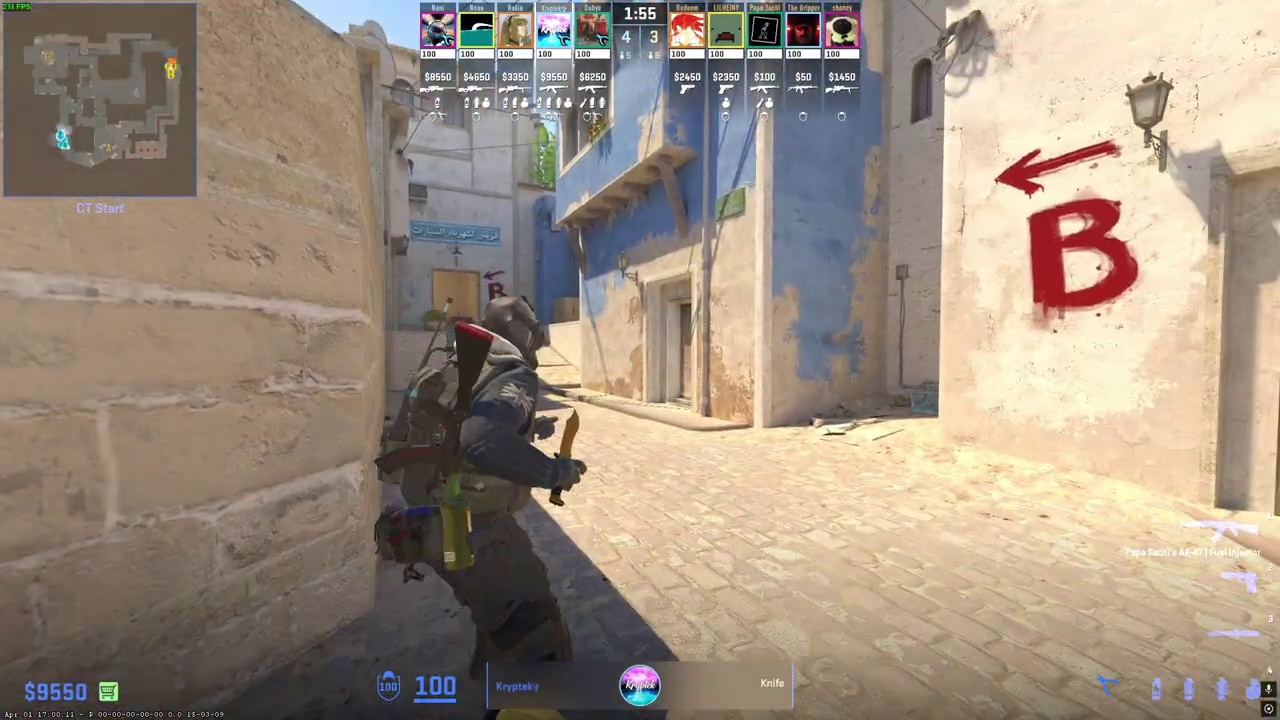CT: (378, 296, 578, 683)
